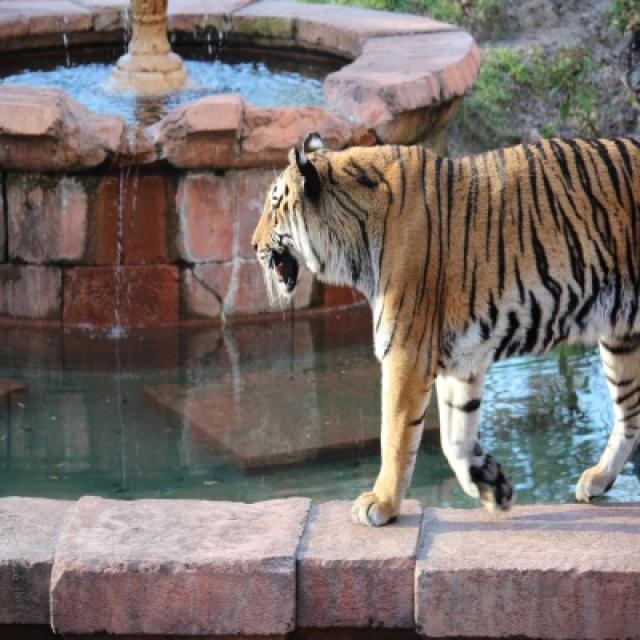Tiger: (245, 130, 638, 524)
